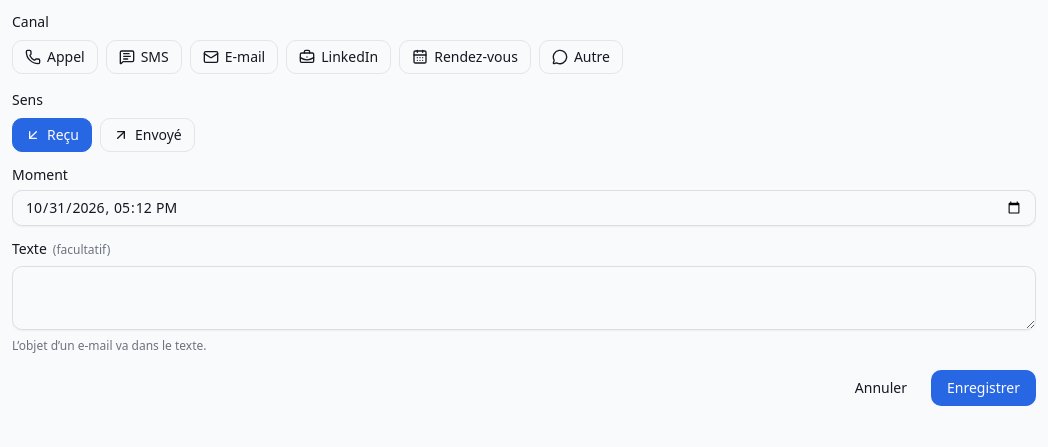
Test case: ExchangeForm › refuses a moment in the future
This screenshot has width=1048, height=447.
Click the radio button labelled "LinkedIn": coordinates (339, 57) [286,40,391,74]
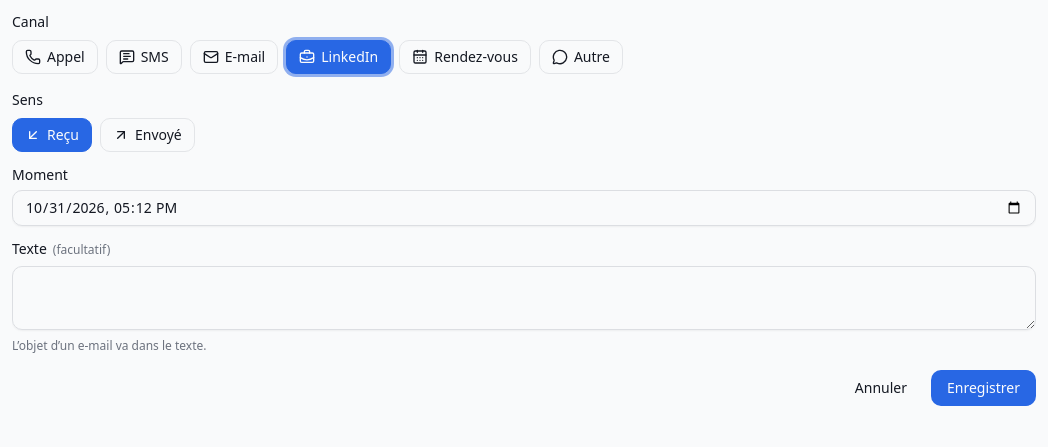
Replace the text in the field labelled "Moment" with "2099-01-01T09:00": coordinates (524, 208) [12,190,1036,226]
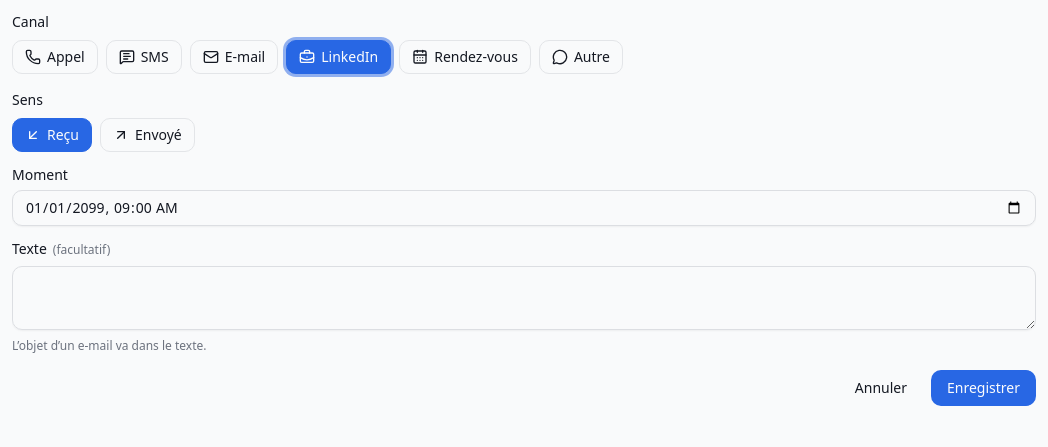
Click the button "Enregistrer": coordinates (984, 388) [931,370,1036,406]
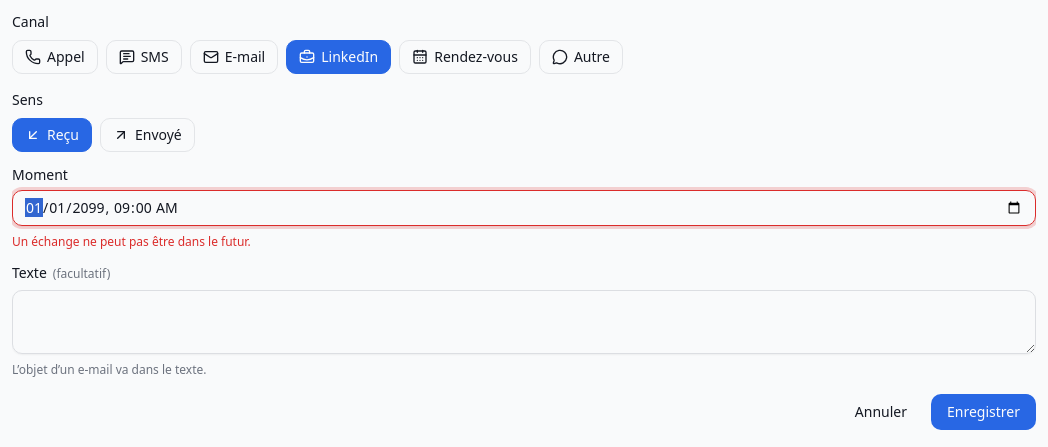
Now the text "Un échange ne peut pas être dans le futur." is shown, box [12,233,251,250]
